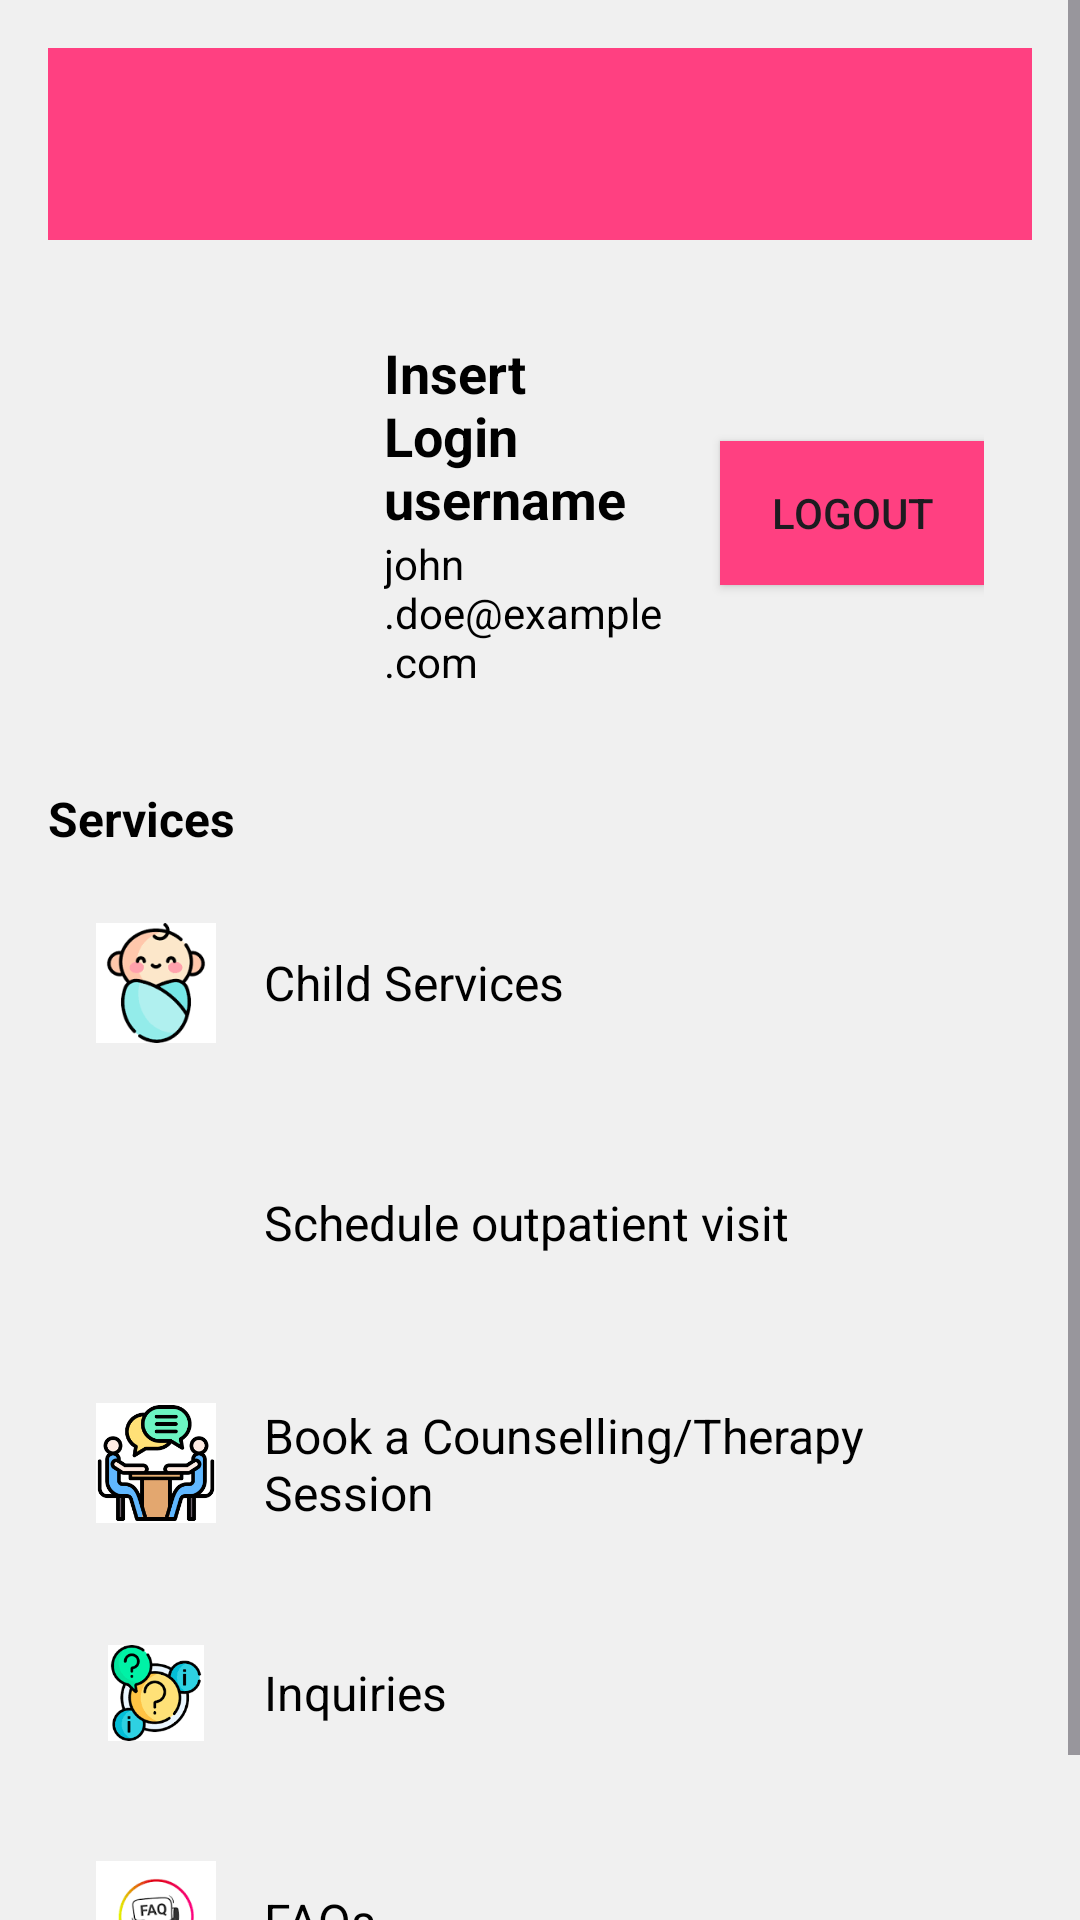

Named icons in this screenshot (1080 × 1920) and their bounding boxes, region(x1, y1, x2, y2):
Submit questions here: region(111, 1645, 201, 1741)
